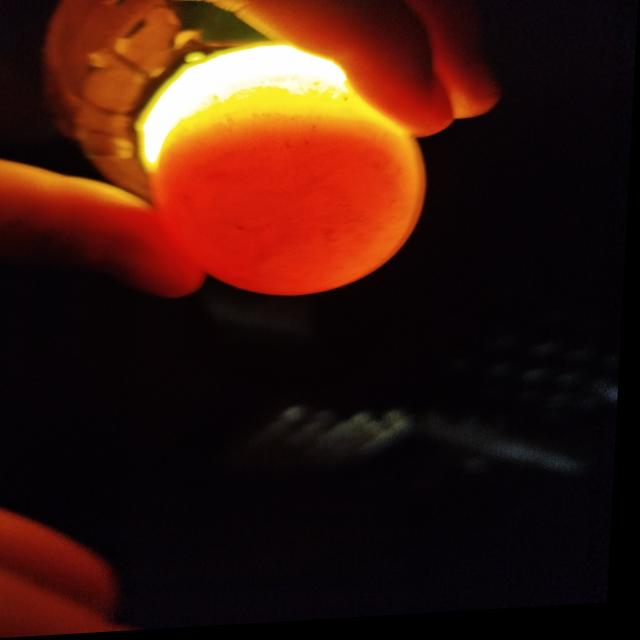Gema Quebrada: (159, 119, 425, 300)
